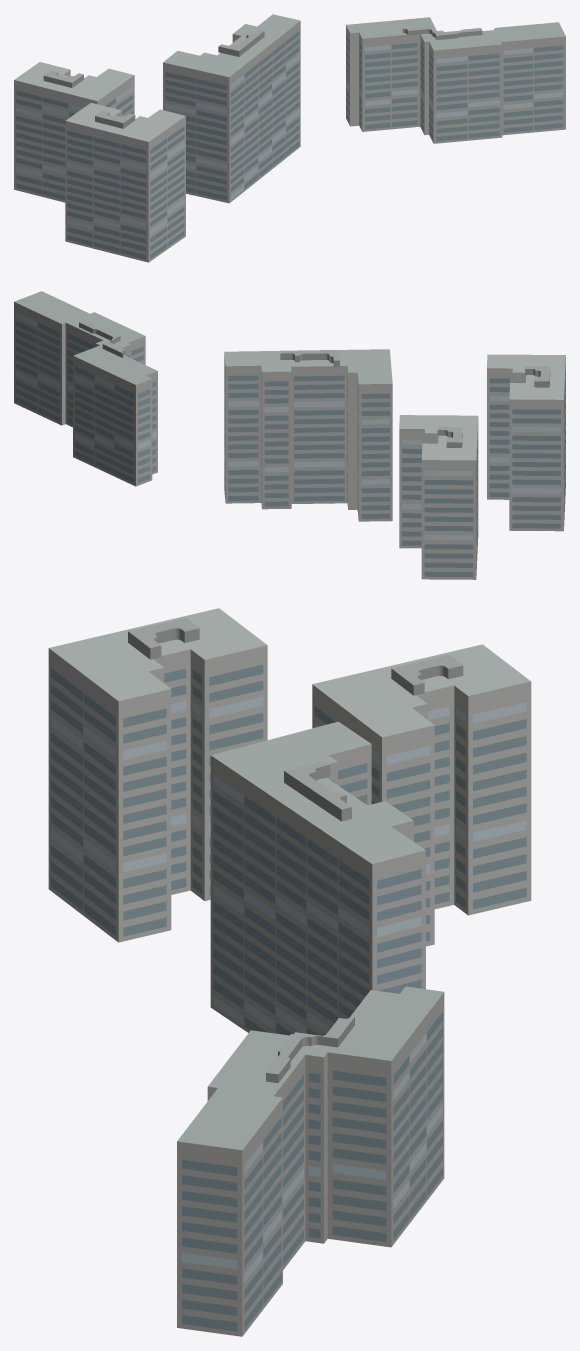
Rendered from apt-a10025372.glb.
The picture shows the model from 3 angles, top to bottom: view 1: azimuth 30°, elevation 25°; view 2: azimuth 150°, elevation 25°; view 3: azimuth 270°, elevation 25°; orthographic projection. The views are drawn at different scales.
Visible parts, largest first — view 1: apt-a10025372; view 2: apt-a10025372; view 3: apt-a10025372.
Part boxes in pixels (x1,y1,x2,y2): apt-a10025372: [14, 14, 565, 262]; apt-a10025372: [14, 291, 565, 579]; apt-a10025372: [48, 608, 531, 1336].
Size of the model in its own units: 182 by 46 by 76.13.
